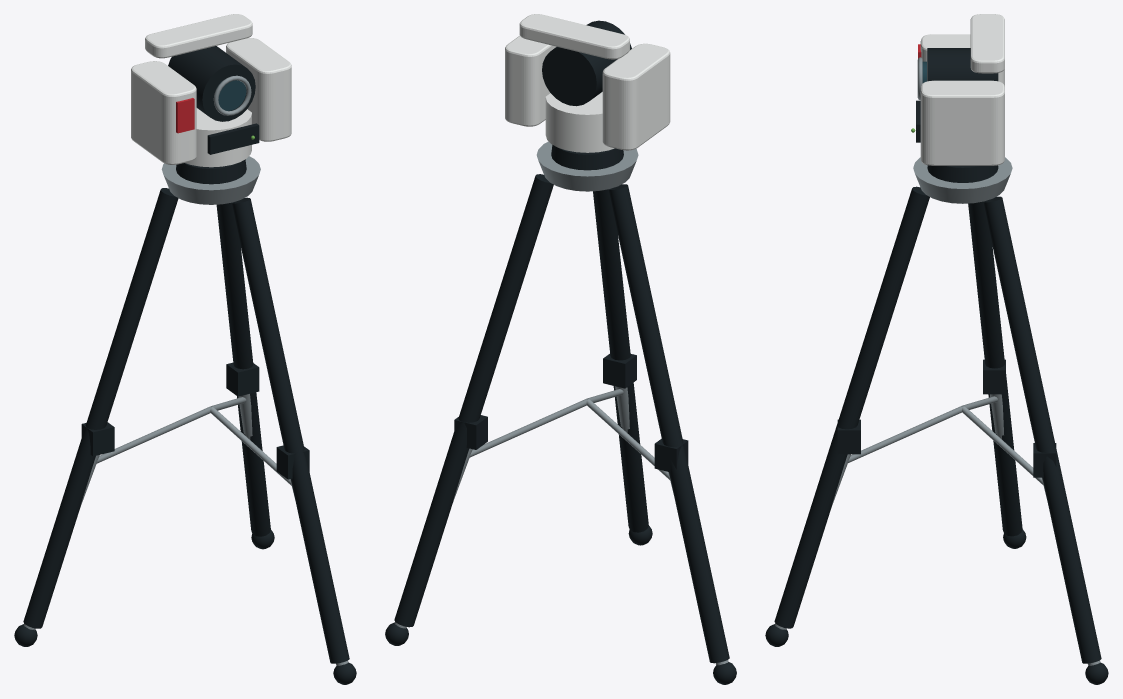
The model's file is survey-scanner.glb.
3 renders of one model, left to right at view 1: azimuth 30°, elevation 25°; view 2: azimuth 150°, elevation 25°; view 3: azimuth 270°, elevation 25°, orthographic. The views are drawn at different scales.
Visible parts, largest first — view 1: Tripod_ScannerCarbonAndOptics, ScannerHead_ScannerWhiteShell, Tripod_TripodAluminium, ScannerHead_ScannerCarbonAndOptics, ScannerHead_OpticalGlass, ScannerHead_LeicaRedAccent, ScannerHead_TripodAluminium; view 2: Tripod_ScannerCarbonAndOptics, ScannerHead_ScannerWhiteShell, Tripod_TripodAluminium, ScannerHead_ScannerCarbonAndOptics; view 3: Tripod_ScannerCarbonAndOptics, ScannerHead_ScannerWhiteShell, Tripod_TripodAluminium, ScannerHead_ScannerCarbonAndOptics.
Part boxes in pixels (left/top/right/bottom): Tripod_ScannerCarbonAndOptics: left=14, top=159, right=356, bottom=684; ScannerHead_ScannerWhiteShell: left=131, top=14, right=291, bottom=167; Tripod_TripodAluminium: left=23, top=156, right=348, bottom=665; ScannerHead_ScannerCarbonAndOptics: left=168, top=46, right=259, bottom=154; ScannerHead_OpticalGlass: left=214, top=80, right=246, bottom=110; ScannerHead_LeicaRedAccent: left=176, top=98, right=194, bottom=133; ScannerHead_TripodAluminium: left=213, top=75, right=251, bottom=115; Tripod_ScannerCarbonAndOptics: left=385, top=145, right=736, bottom=684; ScannerHead_ScannerWhiteShell: left=505, top=14, right=670, bottom=152; Tripod_TripodAluminium: left=394, top=141, right=728, bottom=665; ScannerHead_ScannerCarbonAndOptics: left=542, top=20, right=631, bottom=106; Tripod_ScannerCarbonAndOptics: left=765, top=165, right=1108, bottom=684; ScannerHead_ScannerWhiteShell: left=920, top=14, right=1004, bottom=165; Tripod_TripodAluminium: left=774, top=157, right=1100, bottom=665; ScannerHead_ScannerCarbonAndOptics: left=916, top=48, right=998, bottom=142.
Bounding box in the file's own units: 0.9723 × 1.83 × 0.9666.
